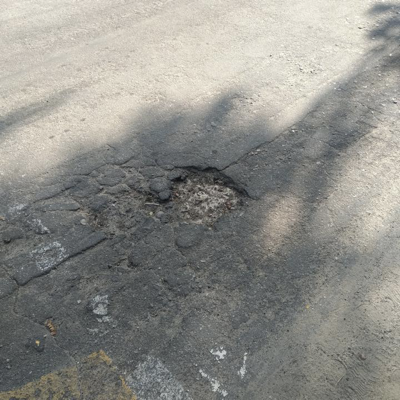pothole: (165, 163, 257, 228), (88, 188, 163, 235)
